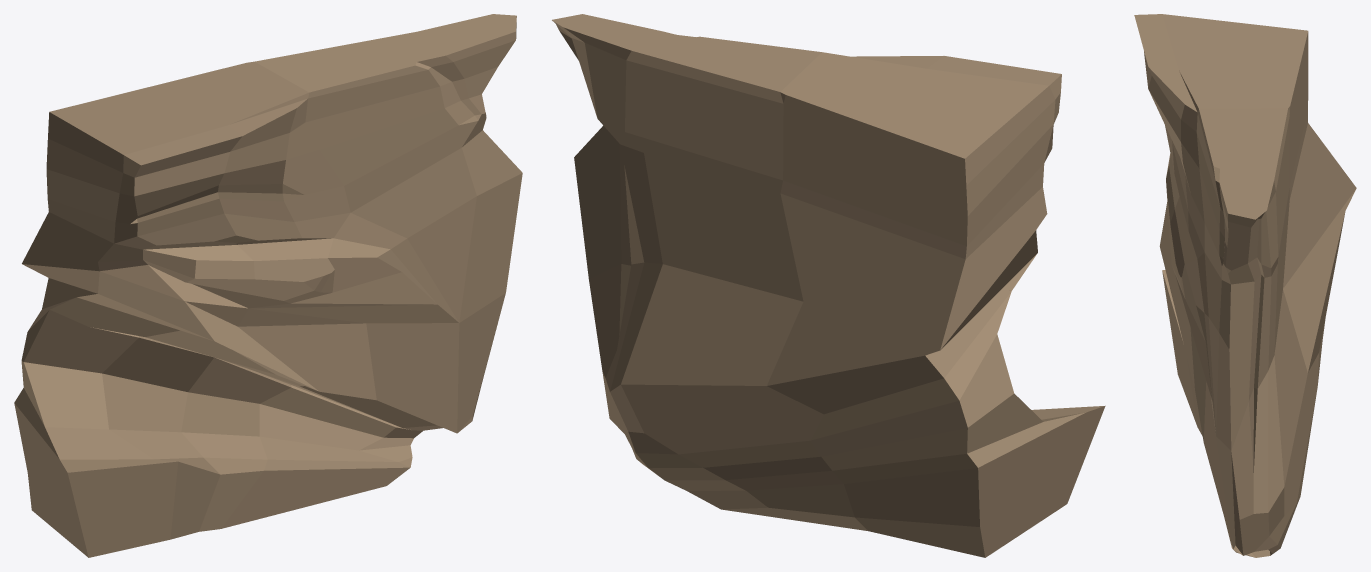
The model's file is Special_rock_repaired.fbx.
3 renders of one model, left to right at view 1: azimuth 30°, elevation 25°; view 2: azimuth 150°, elevation 25°; view 3: azimuth 270°, elevation 25°, orthographic. The views are drawn at different scales.
Parts seen in each view (by area): view 1: Special_rock01; view 2: Special_rock01; view 3: Special_rock01.
Part boxes in pixels (left/top/right/bottom): Special_rock01: left=14, top=14, right=522, bottom=557; Special_rock01: left=552, top=14, right=1105, bottom=557; Special_rock01: left=1134, top=14, right=1356, bottom=557.
Bounding box in the file's own units: 11855 × 9974 × 4941.
